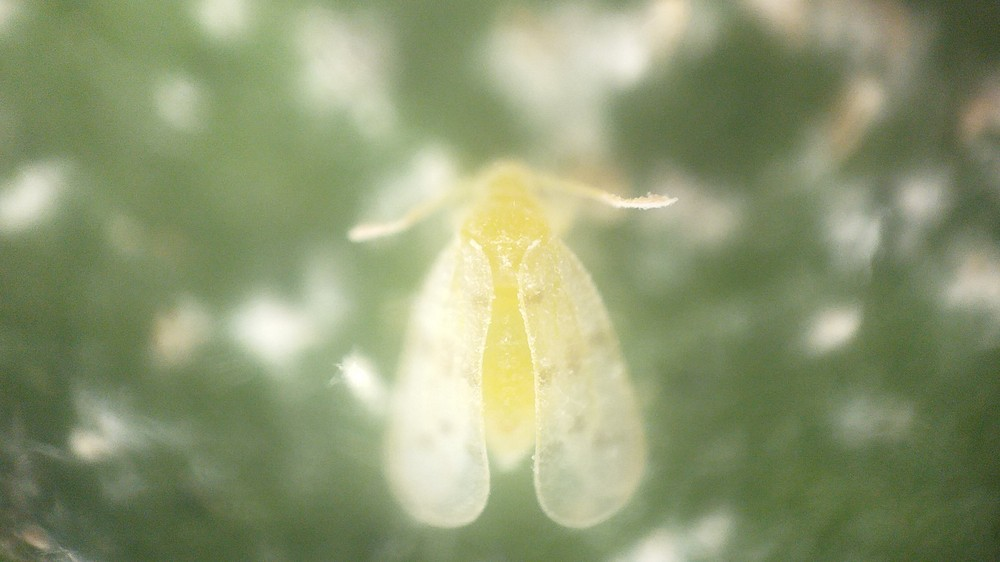Mosca Blanca: (341, 141, 702, 550)
